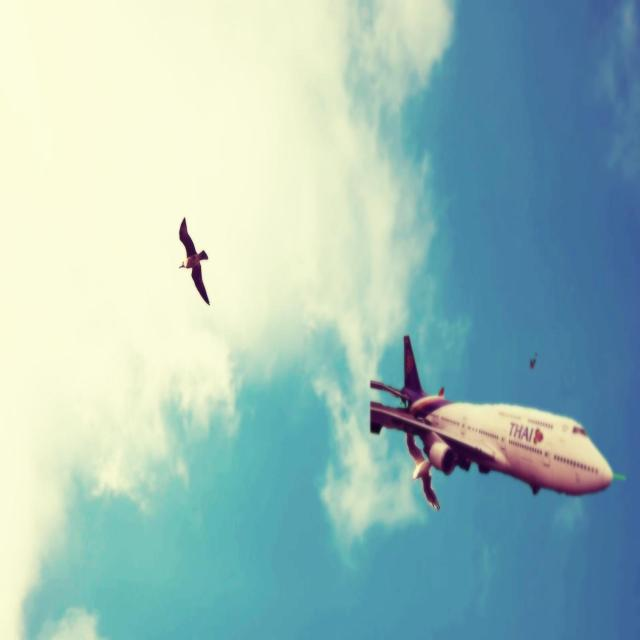airplane: (369, 333, 626, 511)
